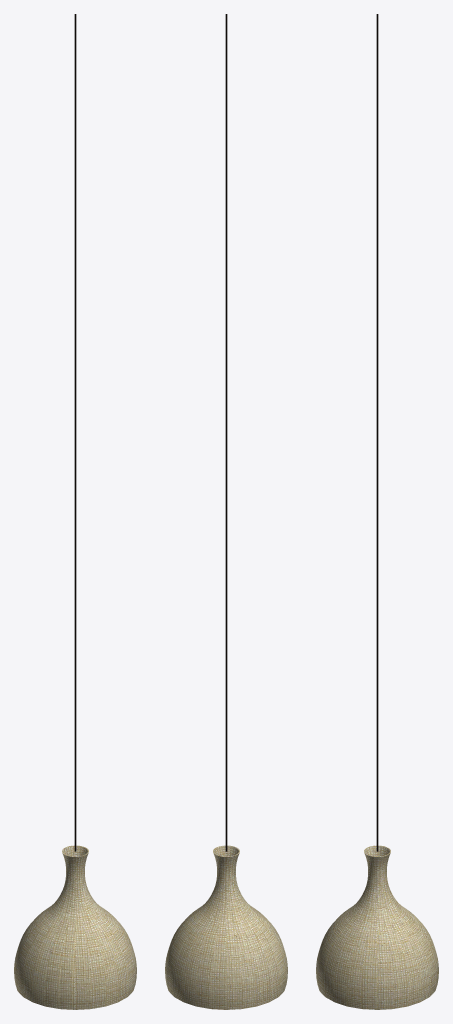
The model's file is PendantLight.glb.
The picture shows the model from 3 angles, left to right: view 1: azimuth 30°, elevation 25°; view 2: azimuth 150°, elevation 25°; view 3: azimuth 330°, elevation 25°; orthographic projection.
Visible parts, largest first — view 1: Component#2; view 2: Component#2; view 3: Component#2.
Part boxes in pixels (x1,y1,x2,y2): Component#2: (14,14,136,1009); Component#2: (165,14,287,1009); Component#2: (316,14,438,1009).
Size of the model in its own units: 0.2159 by 1.88 by 0.2159.
2 materials, 1 textured.
